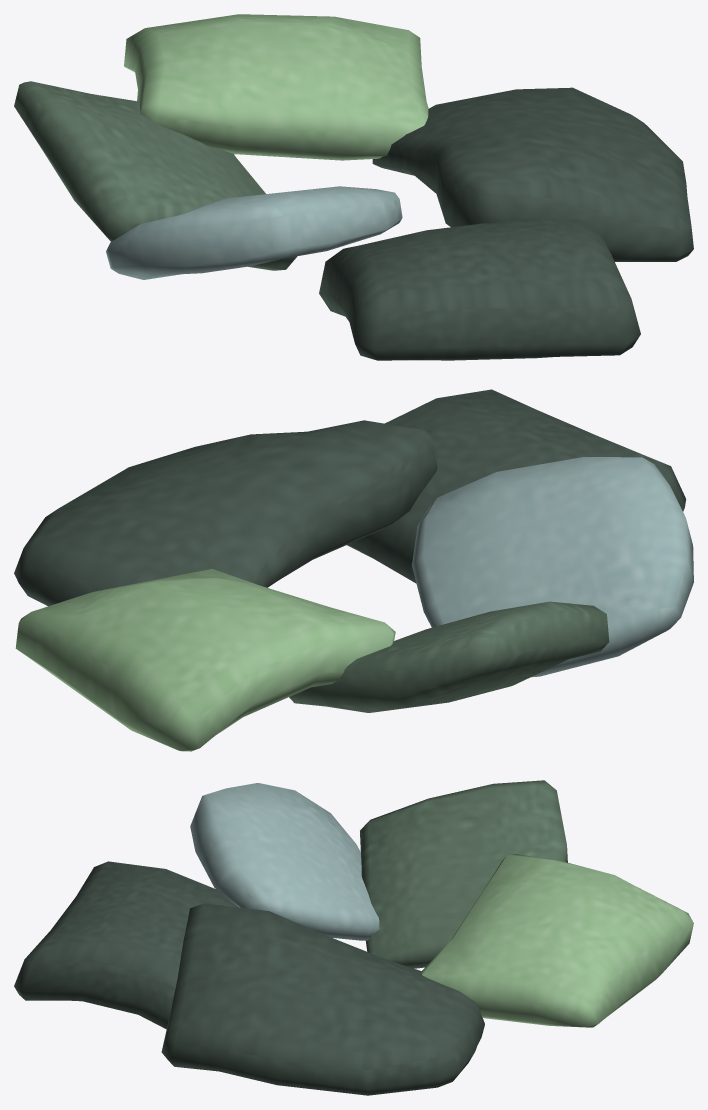
File: SM_Cat_Portal_4.fbx
3 renders of one model, top to bottom at view 1: azimuth 30°, elevation 25°; view 2: azimuth 150°, elevation 25°; view 3: azimuth 270°, elevation 25°, orthographic. The views are drawn at different scales.
Visible parts, largest first — view 1: SM_Cat_Portal_2; view 2: SM_Cat_Portal_2; view 3: SM_Cat_Portal_2.
Boxes of the visible parts, x1=… form: SM_Cat_Portal_2: x1=14, y1=14, x2=693, y2=360; SM_Cat_Portal_2: x1=14, y1=389, x2=693, y2=751; SM_Cat_Portal_2: x1=14, y1=780, x2=693, y2=1095.
Size of the model in its own units: 105 by 28.34 by 128.
Materials: 1 (1 with a texture image).
